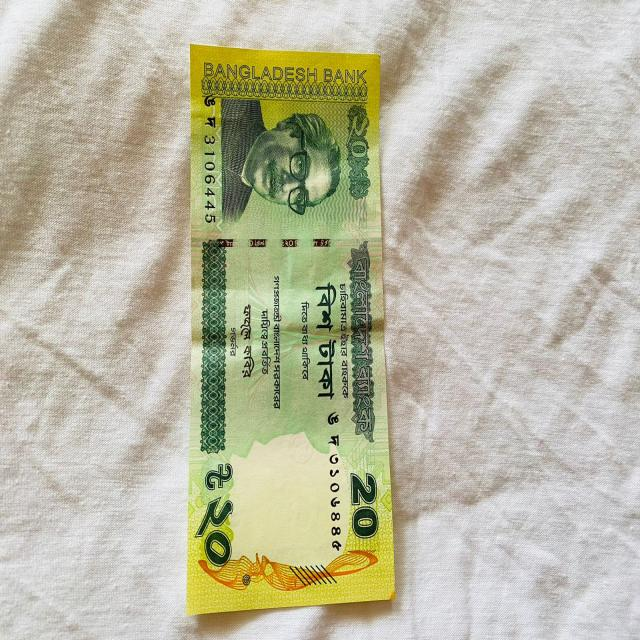Taka: (184, 31, 398, 625)
